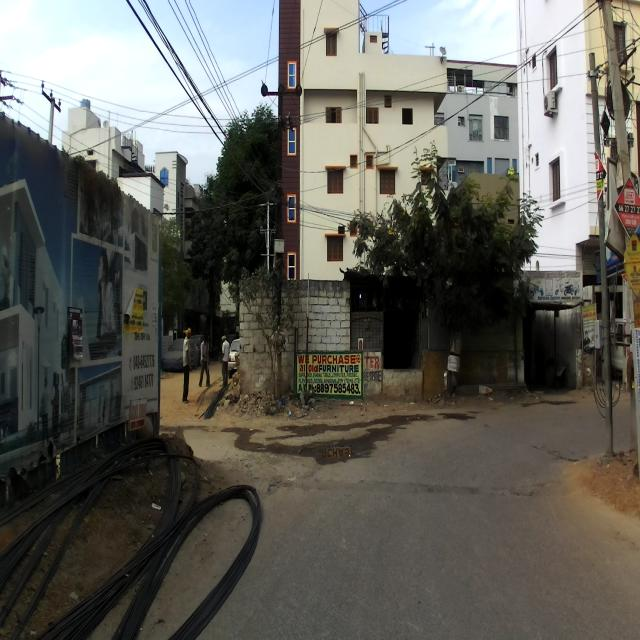electric pole ahead at: (578, 42, 619, 451)
